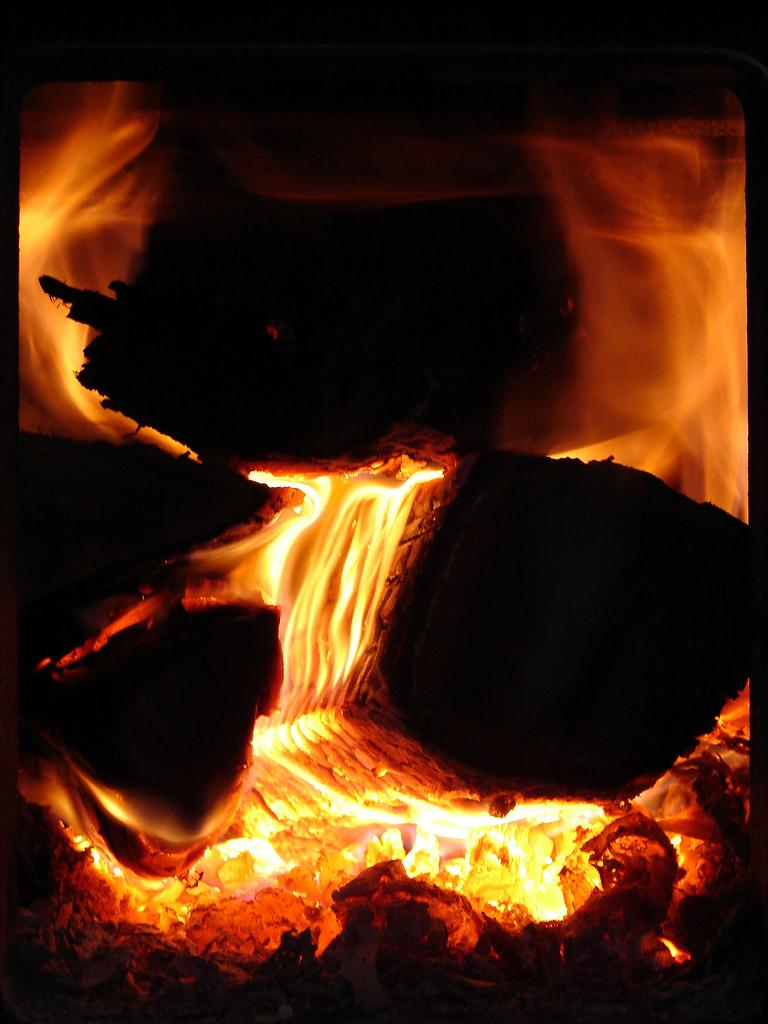fire: (265, 480, 425, 860), (485, 808, 608, 920)
